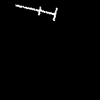double_crochet: (16, 5, 56, 20)
